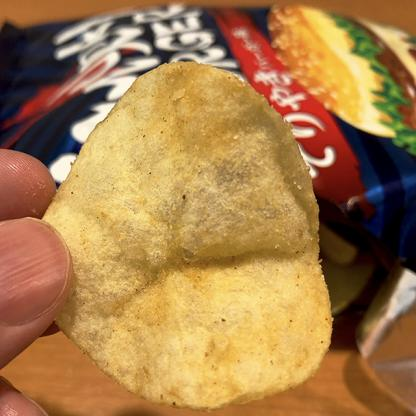potatochip: (0, 0, 415, 286)
